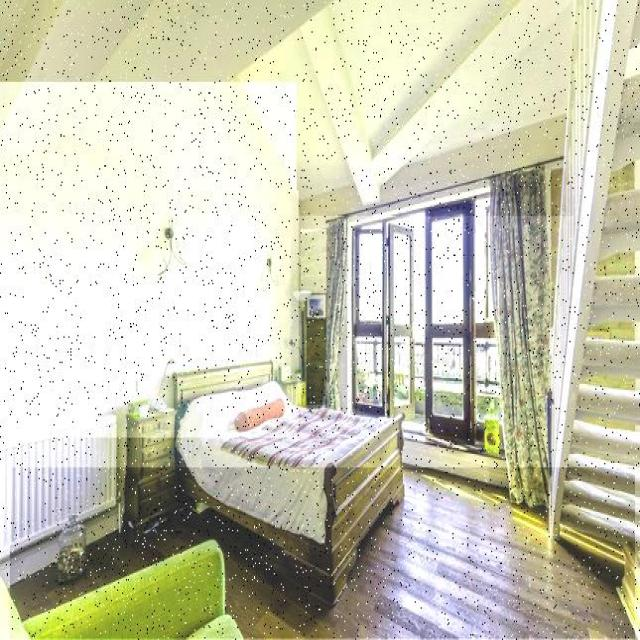Wall: (0, 0, 574, 216), (10, 468, 635, 639), (0, 83, 297, 438), (24, 192, 299, 430), (307, 319, 326, 405), (301, 230, 326, 293)
